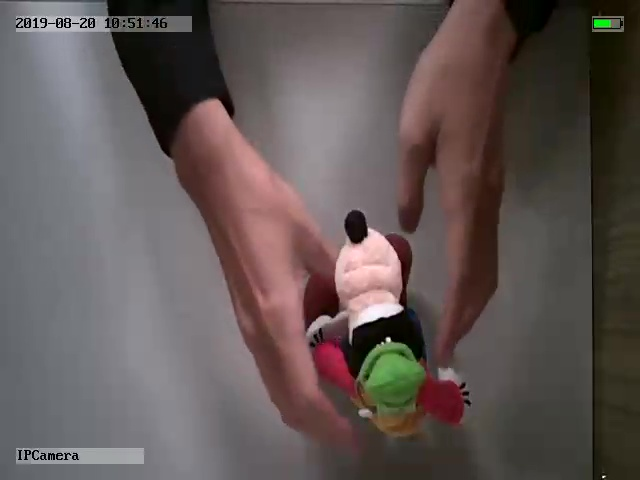goofy: (302, 209, 474, 438)
